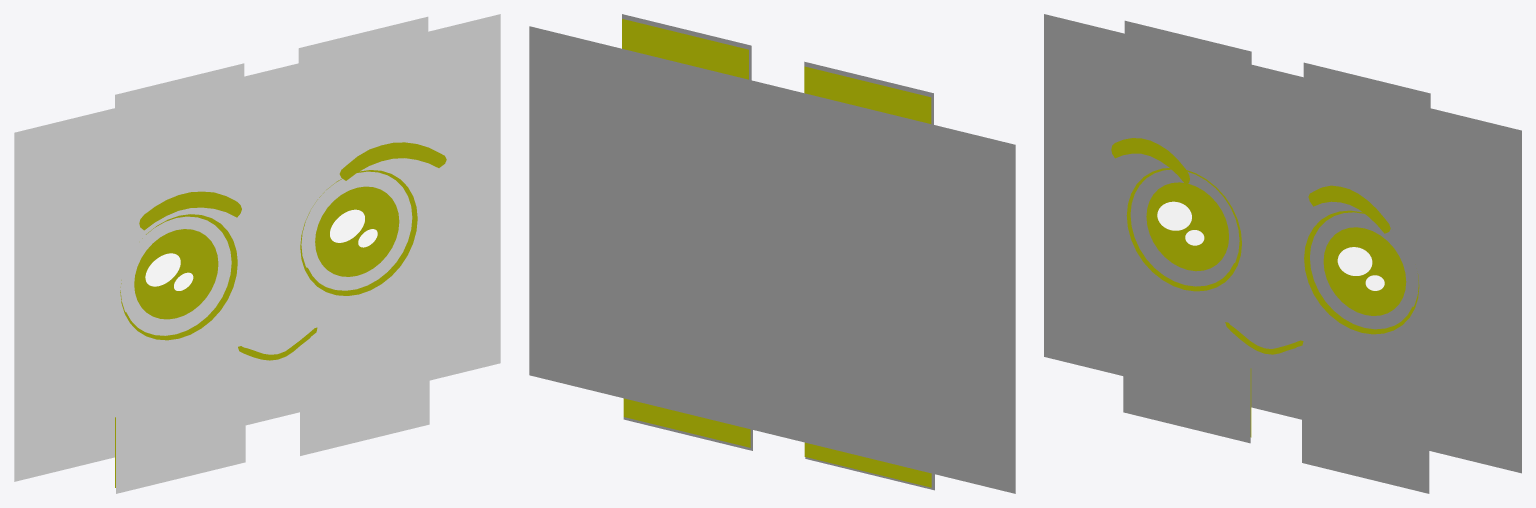
The model's file is emy.glb.
3 renders of one model, left to right at view 1: azimuth 30°, elevation 25°; view 2: azimuth 150°, elevation 25°; view 3: azimuth 330°, elevation 25°, orthographic.
Visible parts, largest first — view 1: BG_GEO, R_LidGEO, L_LidGEO, L_BotLid, FaceGEO, L_TopLid, R_TopLid, R_BotLid, R_Pupil, L_Pupil, L_Sclera, R_Sclera (+10 smaller); view 2: BG_GEO, L_TopLid_Outline, R_TopLid_Outline, L_BotLid_Outline, R_BotLid_Outline, L_TopLid, R_TopLid; view 3: BG_GEO, R_LidGEO, L_LidGEO, L_BotLid, FaceGEO, L_TopLid, R_TopLid, R_BotLid, L_Pupil, R_Pupil, L_Sclera, R_Sclera (+9 smaller).
Part boxes in pixels (x1,y1,x2,y2): BG_GEO: (14,14,500,481); R_LidGEO: (99,143,258,421); L_LidGEO: (275,98,442,376); L_BotLid: (300,293,429,455); FaceGEO: (77,94,447,420); L_TopLid: (298,16,428,131); R_TopLid: (115,63,244,176); R_BotLid: (116,385,245,493); R_Pupil: (134,229,218,319); L_Pupil: (315,186,399,276); L_Sclera: (301,171,412,290); R_Sclera: (120,216,231,335); BG_GEO: (529,26,1015,493); L_TopLid_Outline: (622,19,748,79); R_TopLid_Outline: (804,66,931,123); L_BotLid_Outline: (623,398,750,447); R_BotLid_Outline: (804,442,931,487); L_TopLid: (622,14,751,80); R_TopLid: (804,61,933,124); BG_GEO: (1044,14,1521,473); R_LidGEO: (1106,97,1262,371); L_LidGEO: (1279,140,1443,413); L_BotLid: (1302,333,1429,493); FaceGEO: (1096,91,1459,413); L_TopLid: (1303,62,1430,175); R_TopLid: (1124,20,1251,132); R_BotLid: (1123,337,1250,443); L_Pupil: (1323,227,1406,315); R_Pupil: (1146,182,1228,271); L_Sclera: (1310,212,1418,329); R_Sclera: (1130,169,1239,286).
Bounding box in the file's own units: 3.25 × 2.59 × 0.4604.
